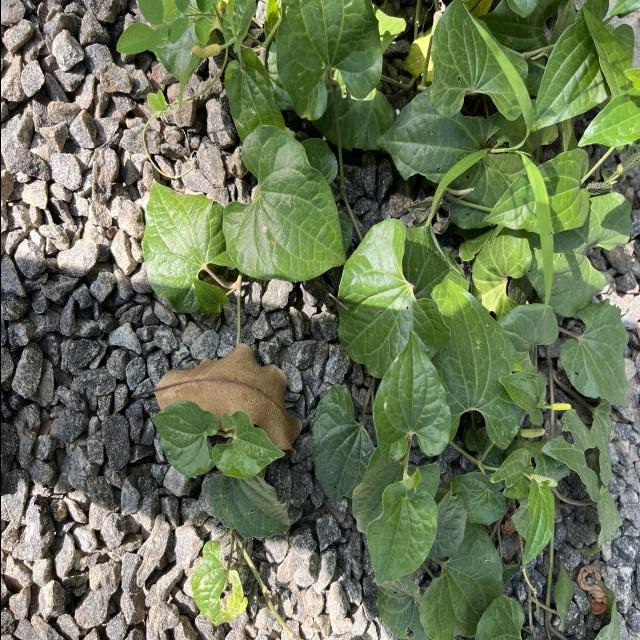Piper longum: (218, 122, 348, 284), (140, 177, 230, 318), (370, 328, 453, 466), (364, 478, 439, 586), (147, 399, 220, 480), (210, 408, 286, 482)
